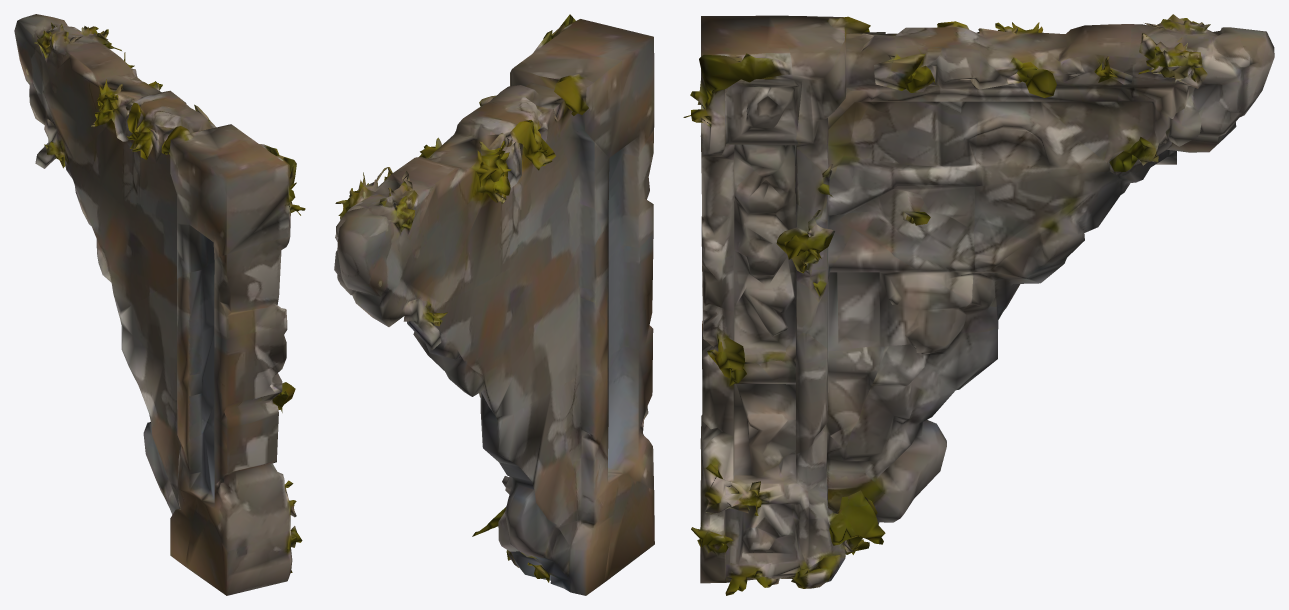
The model's file is ruin_wall_fragment.glb.
The picture shows the model from 3 angles, left to right: view 1: azimuth 30°, elevation 25°; view 2: azimuth 150°, elevation 25°; view 3: azimuth 270°, elevation 25°; orthographic projection. The views are drawn at different scales.
Visible parts, largest first — view 1: tripo_node_fbc627c1-f2cb-44a8-a7ae-c8cb8b5dea4c; view 2: tripo_node_fbc627c1-f2cb-44a8-a7ae-c8cb8b5dea4c; view 3: tripo_node_fbc627c1-f2cb-44a8-a7ae-c8cb8b5dea4c.
Boxes of the visible parts, bbox=[...] form: tripo_node_fbc627c1-f2cb-44a8-a7ae-c8cb8b5dea4c: bbox=[14, 14, 305, 595]; tripo_node_fbc627c1-f2cb-44a8-a7ae-c8cb8b5dea4c: bbox=[334, 14, 654, 595]; tripo_node_fbc627c1-f2cb-44a8-a7ae-c8cb8b5dea4c: bbox=[683, 14, 1274, 595].
Bounding box in the file's own units: 0.2074 × 0.9984 × 0.9806.
1 material, 1 textured.
